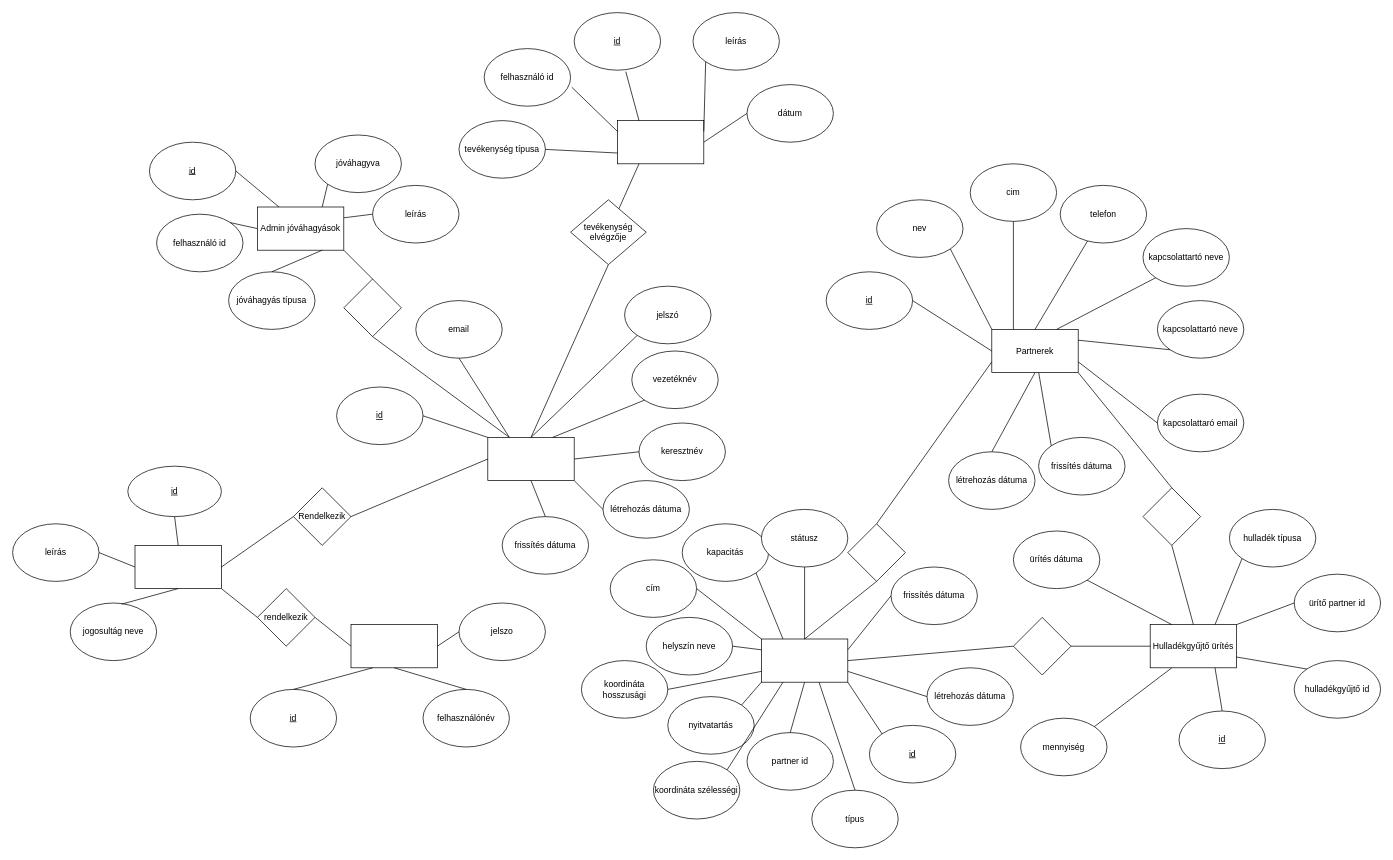
Image size: 1393x860. Some labels were removed from this diagram. Here are the shapes that lost their labels. From the top down, the centre of each, then its label:
(x=660, y=142): Felhasználói tevékenységek
(x=372, y=307): igényló
(x=530, y=459): Felhasználók
(x=1171, y=516): elvégzi
(x=177, y=567): Jogosultságok
(x=876, y=552): kezeli
(x=393, y=646): Rendszergazdák
(x=804, y=660): Hulladékgyűjtők
(x=1042, y=646): megjelölés
